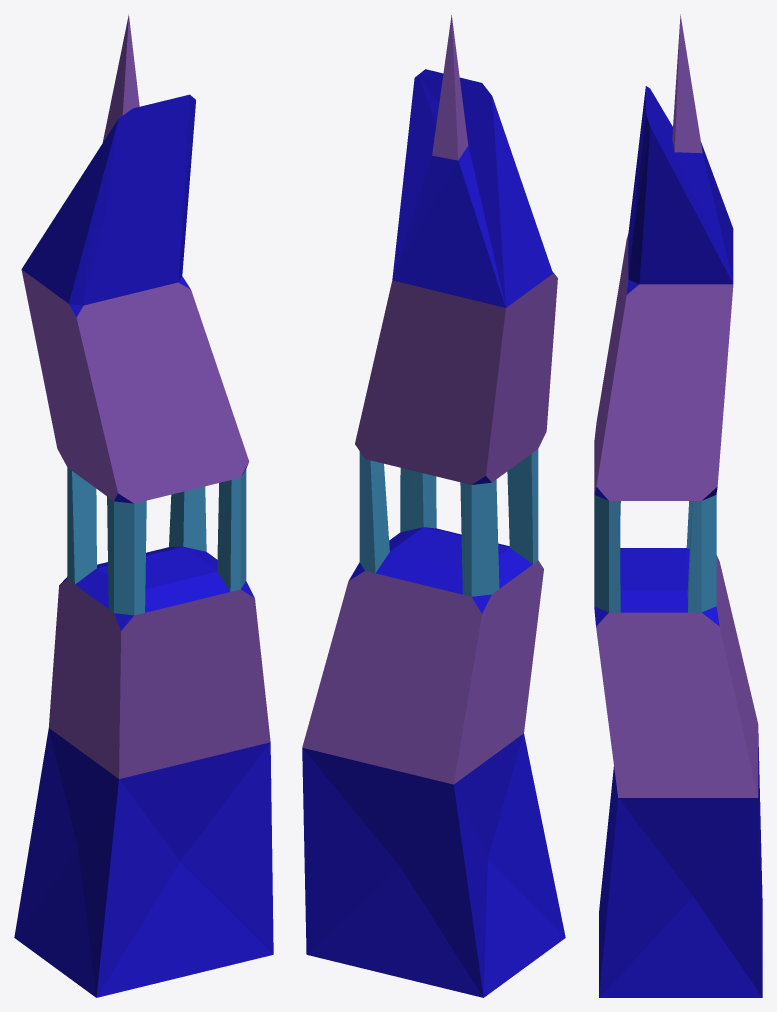
3 views of the same model, side by side, from view 1: azimuth 30°, elevation 25°; view 2: azimuth 150°, elevation 25°; view 3: azimuth 270°, elevation 25° (orthographic).
Visible parts, largest first — view 1: Box001_Part_5, Box001_Part_2, Box001_Part_6, Box001_Part_4, Box001_Part_3, Box001_Part_1; view 2: Box001_Part_1, Box001_Part_2, Box001_Part_5, Box001_Part_4, Box001_Part_3, Box001_Part_6; view 3: Box001_Part_6, Box001_Part_5, Box001_Part_2, Box001_Part_4, Box001_Part_3, Box001_Part_1.
Part boxes in pixels (x1,y1,x2,y2): Box001_Part_5: (21,224,249,482); Box001_Part_2: (53,426,256,735); Box001_Part_6: (98,618,272,875); Box001_Part_4: (14,853,273,997); Box001_Part_3: (51,14,195,257); Box001_Part_1: (25,664,107,871); Box001_Part_1: (302,643,535,929); Box001_Part_2: (339,422,547,708); Box001_Part_5: (357,198,557,454); Box001_Part_4: (304,824,565,997); Box001_Part_3: (388,15,527,298); Box001_Part_6: (318,615,542,826); Box001_Part_6: (599,650,744,902); Box001_Part_5: (596,176,733,487); Box001_Part_2: (594,412,740,666); Box001_Part_4: (599,808,762,997); Box001_Part_3: (631,14,733,306); Box001_Part_1: (709,652,761,911).
Size of the model in its own units: 72.69 by 340 by 55.65.
